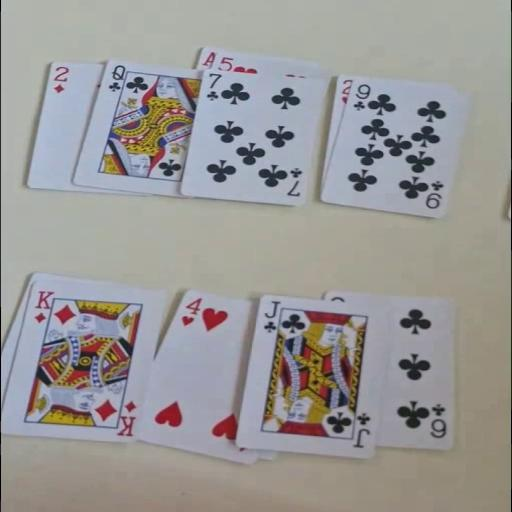2: (50, 64, 70, 94)
4: (178, 295, 204, 327)
6: (427, 402, 448, 439)
7: (284, 166, 304, 197), (204, 72, 224, 102)
9: (422, 178, 446, 210), (350, 82, 372, 111), (344, 78, 356, 110)
J: (350, 410, 374, 449), (260, 298, 281, 334)
K: (114, 398, 139, 437), (30, 288, 56, 324)
Q: (104, 62, 126, 92)
